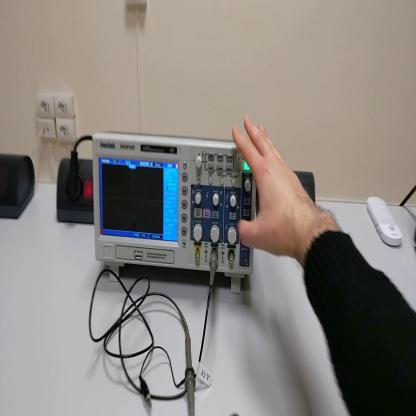hand: (229, 116, 311, 259)
oscilloscope: (91, 127, 258, 294)
oscilloscope probe tip: (185, 313, 197, 415)
socket: (55, 162, 96, 225), (1, 150, 36, 222)
